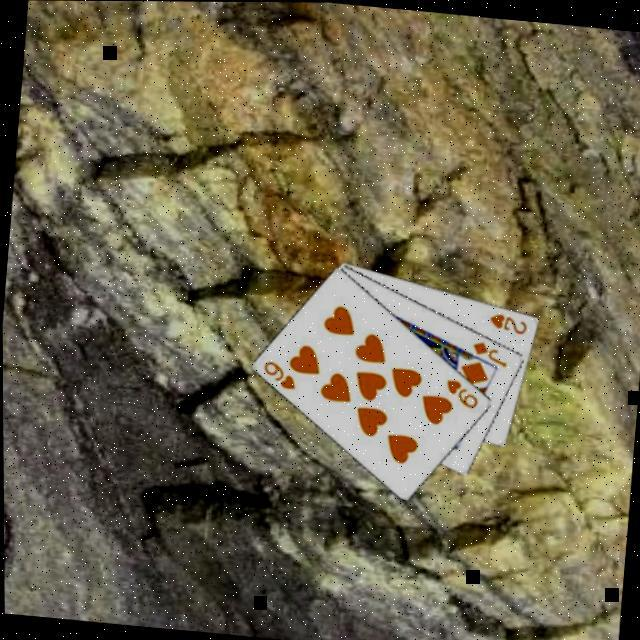2H: (485, 307, 531, 335)
9H: (259, 355, 301, 390), (442, 374, 483, 409)
JD: (468, 336, 511, 368)
